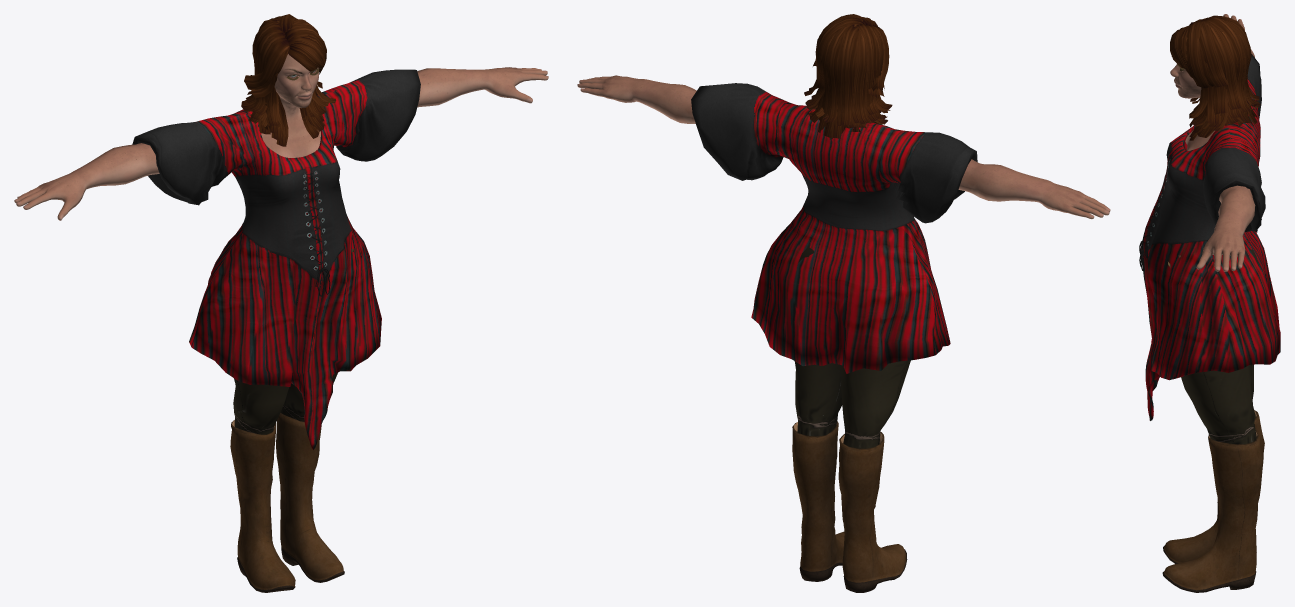
Rendered from Wooman_01.obj.
3 renders of one model, left to right at view 1: azimuth 30°, elevation 25°; view 2: azimuth 150°, elevation 25°; view 3: azimuth 270°, elevation 25°, orthographic.
Visible parts, largest first — view 1: Tops, Shoes, Body, Hair, Bottoms; view 2: Tops, Shoes, Hair, Bottoms, Body; view 3: Tops, Shoes, Hair, Bottoms, Body.
Part boxes in pixels (x1,y1,x2,y2): Tops: (132,69,420,449); Shoes: (230,413,344,592); Body: (14,54,548,220); Hair: (241,14,335,146); Bottoms: (233,233,354,434); Tops: (691,83,977,373); Shoes: (792,421,907,592); Hair: (804,14,892,138); Bottoms: (794,244,910,448); Body: (577,75,1110,219); Tops: (1139,54,1280,420); Shoes: (1162,410,1264,592); Hair: (1170,15,1261,140); Bottoms: (1168,243,1259,444); Body: (1170,14,1255,271).
Bounding box in the file's own units: 180 × 180 × 41.55.
Materials: 5 (5 with a texture image).
